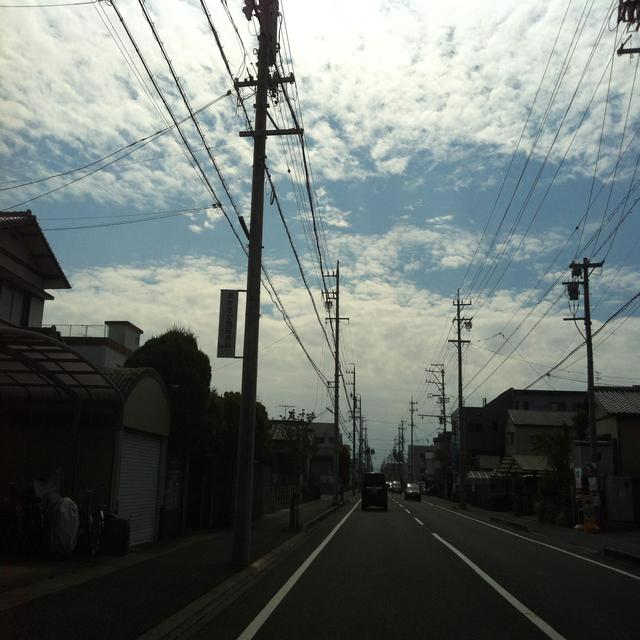Bicycle: (0, 466, 105, 560)
Billboard: (320, 475, 333, 494), (451, 442, 457, 472)
Car: (361, 471, 420, 510), (452, 484, 459, 501)
Vegetation: (279, 408, 349, 527), (455, 448, 459, 472)
